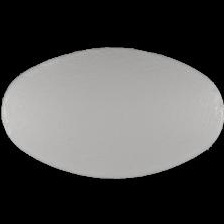66336-556: (0, 0, 224, 224)
